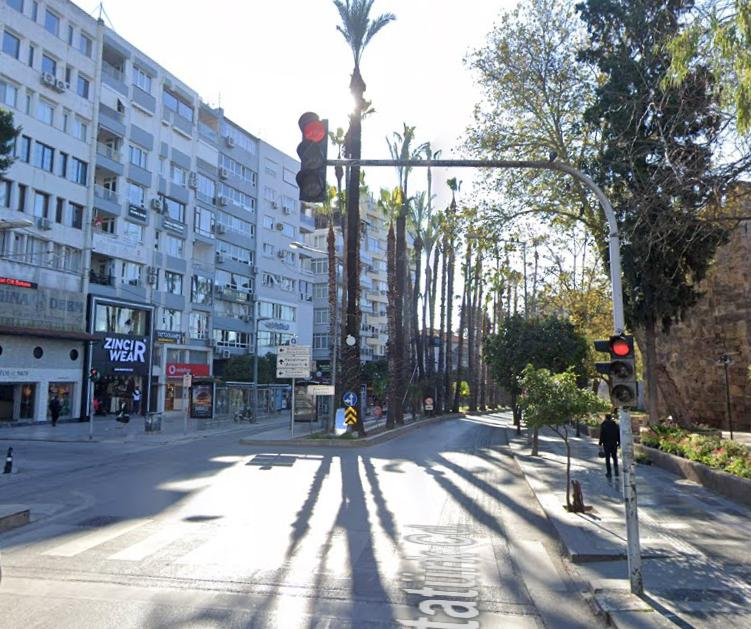redlight: (298, 112, 328, 202), (610, 331, 635, 407)
